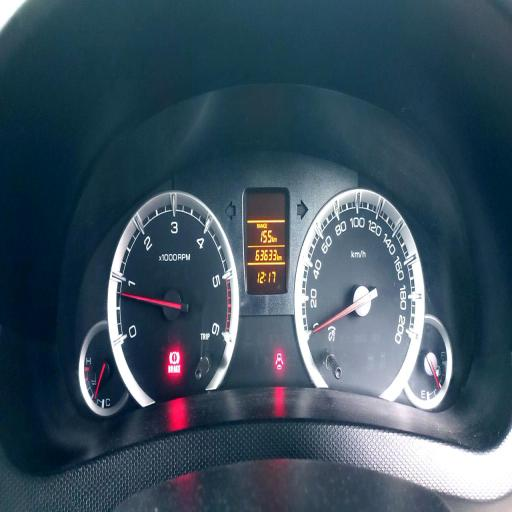tachometer: (108, 188, 239, 405)
